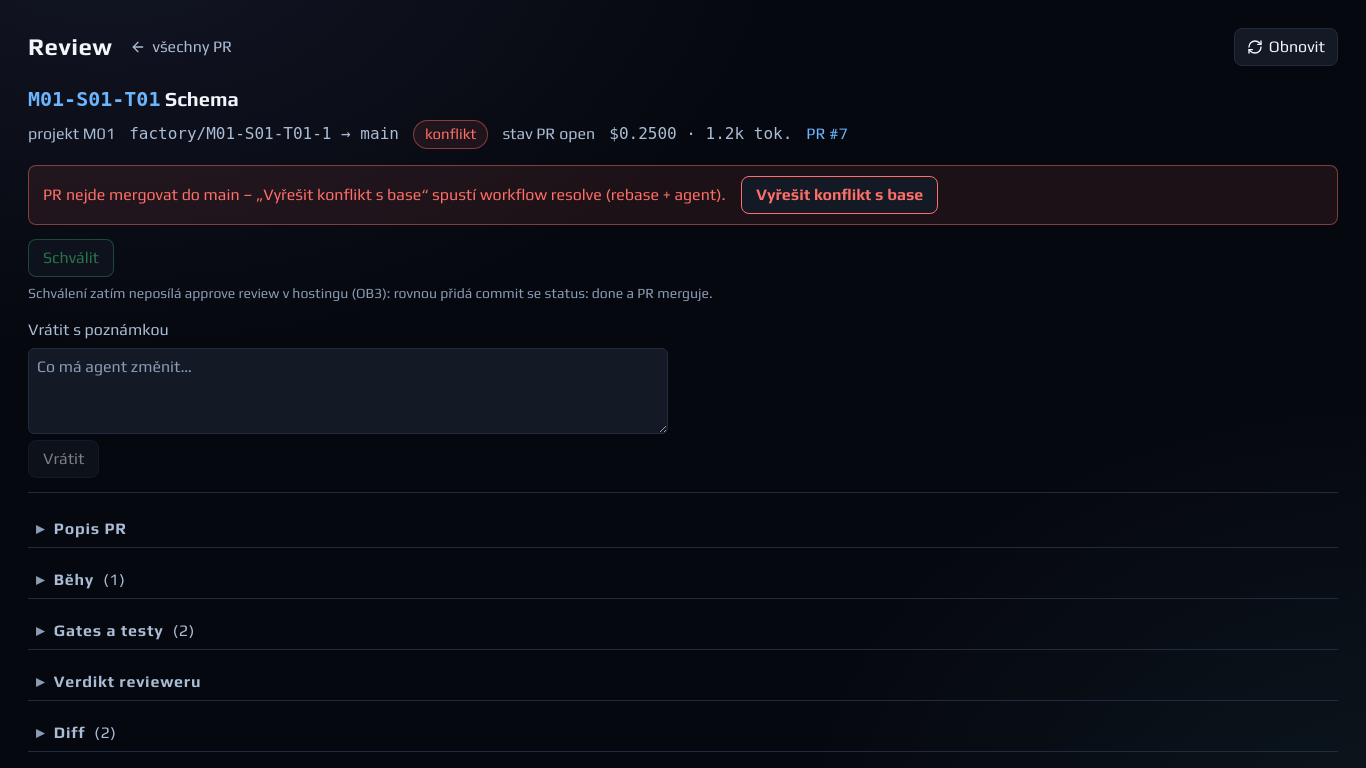
Scenario: ReviewView › resolves a conflict
The width and height of the screenshot is (1366, 768).
Click the button with test id "resolve" at (840, 194), box [741,176,938,214]
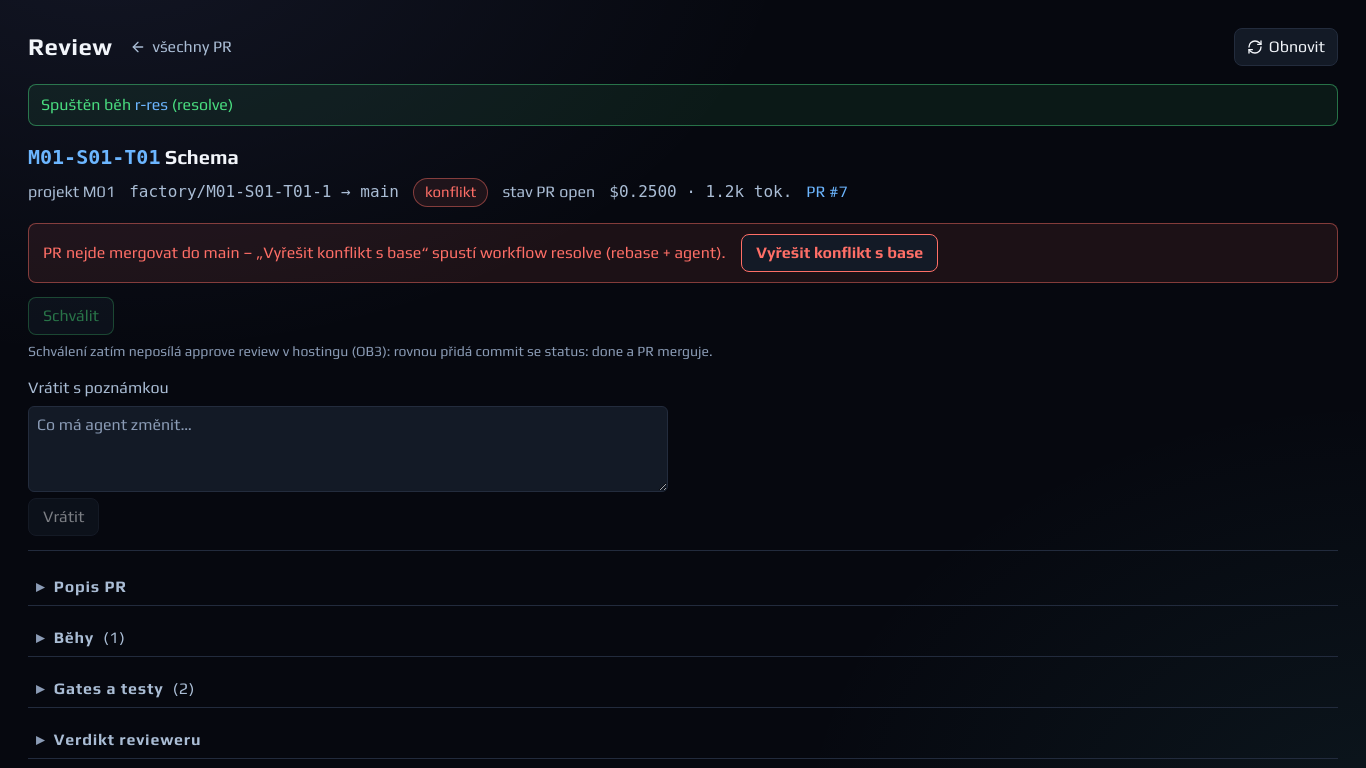
expect the element with test id "started" shows "r-res": met, box [135,95,168,114]
